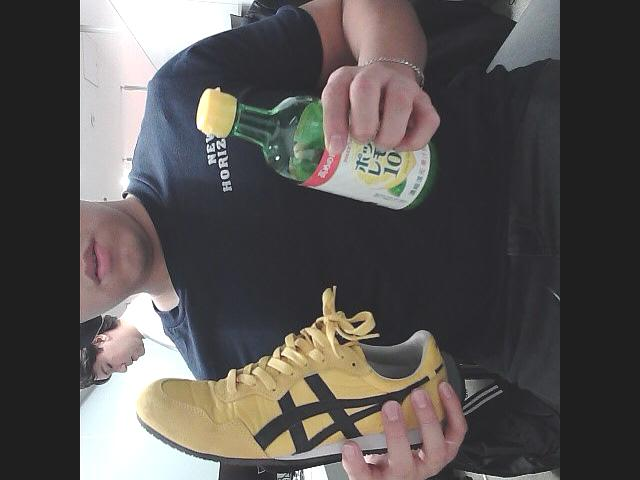Lemon_sapporo: (192, 70, 442, 208)
Shoes: (136, 312, 468, 466)
